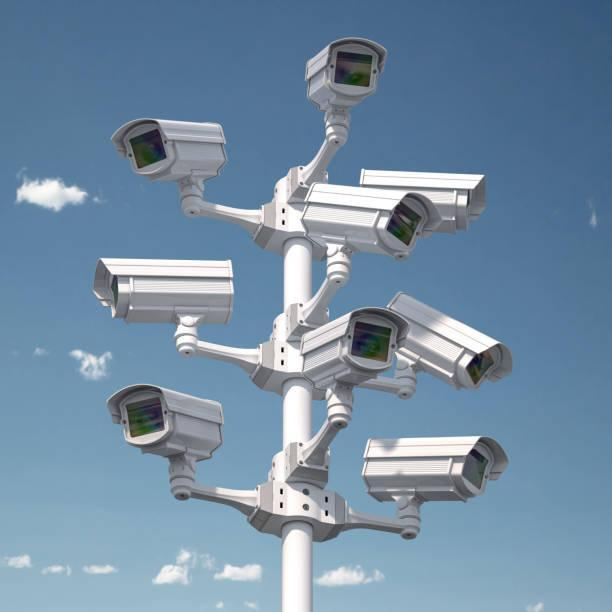camera: (85, 370, 245, 495), (410, 263, 522, 437), (355, 432, 525, 542), (83, 242, 250, 352), (85, 97, 242, 213), (338, 128, 513, 227), (277, 300, 417, 413), (278, 173, 420, 268), (255, 25, 402, 110)
